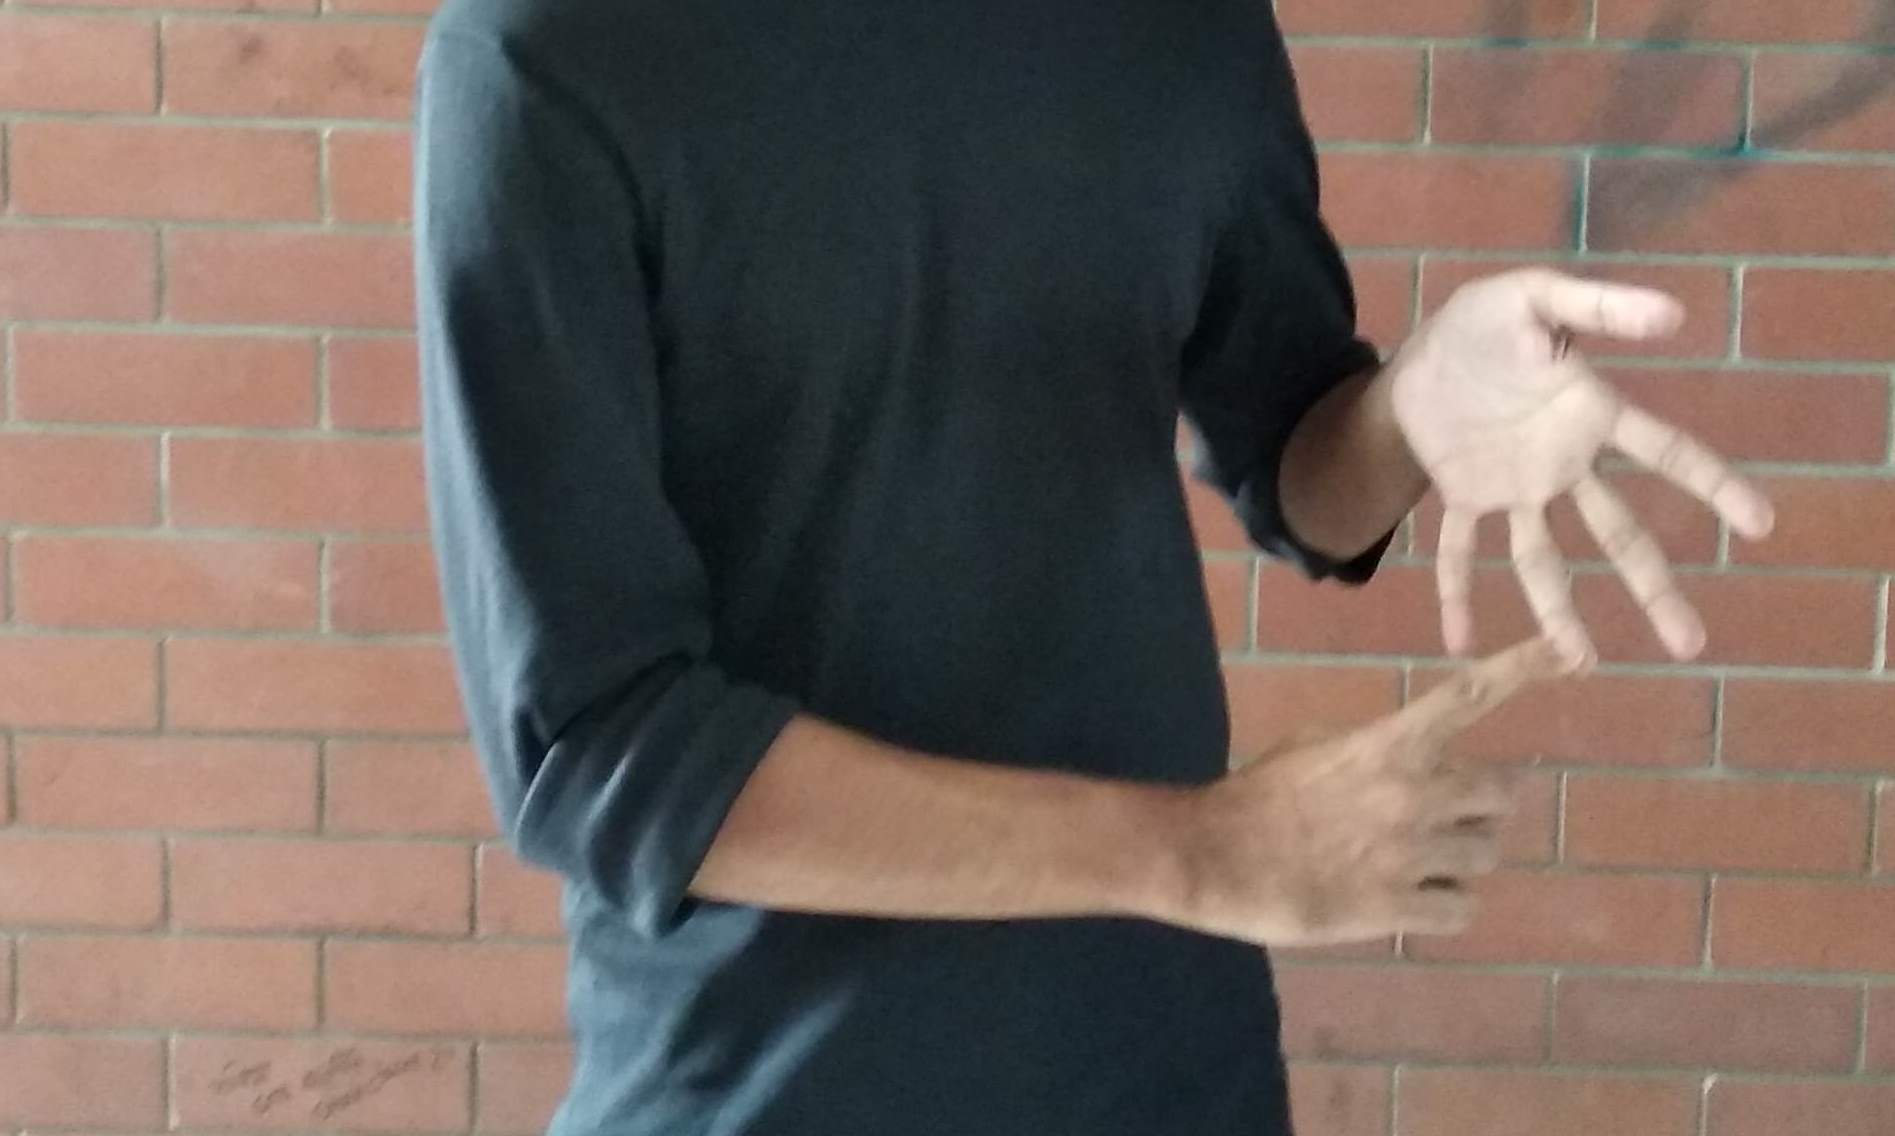e: (1288, 302, 1765, 995)
